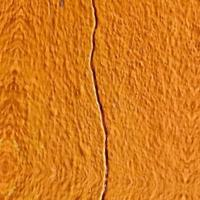crack: (76, 0, 132, 199)
